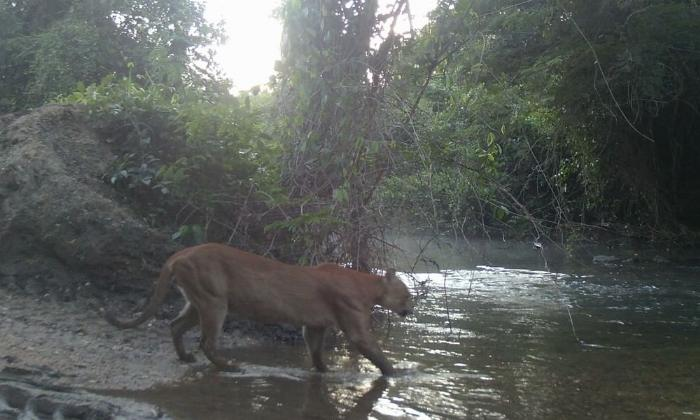OncaParda: (99, 235, 418, 390)
